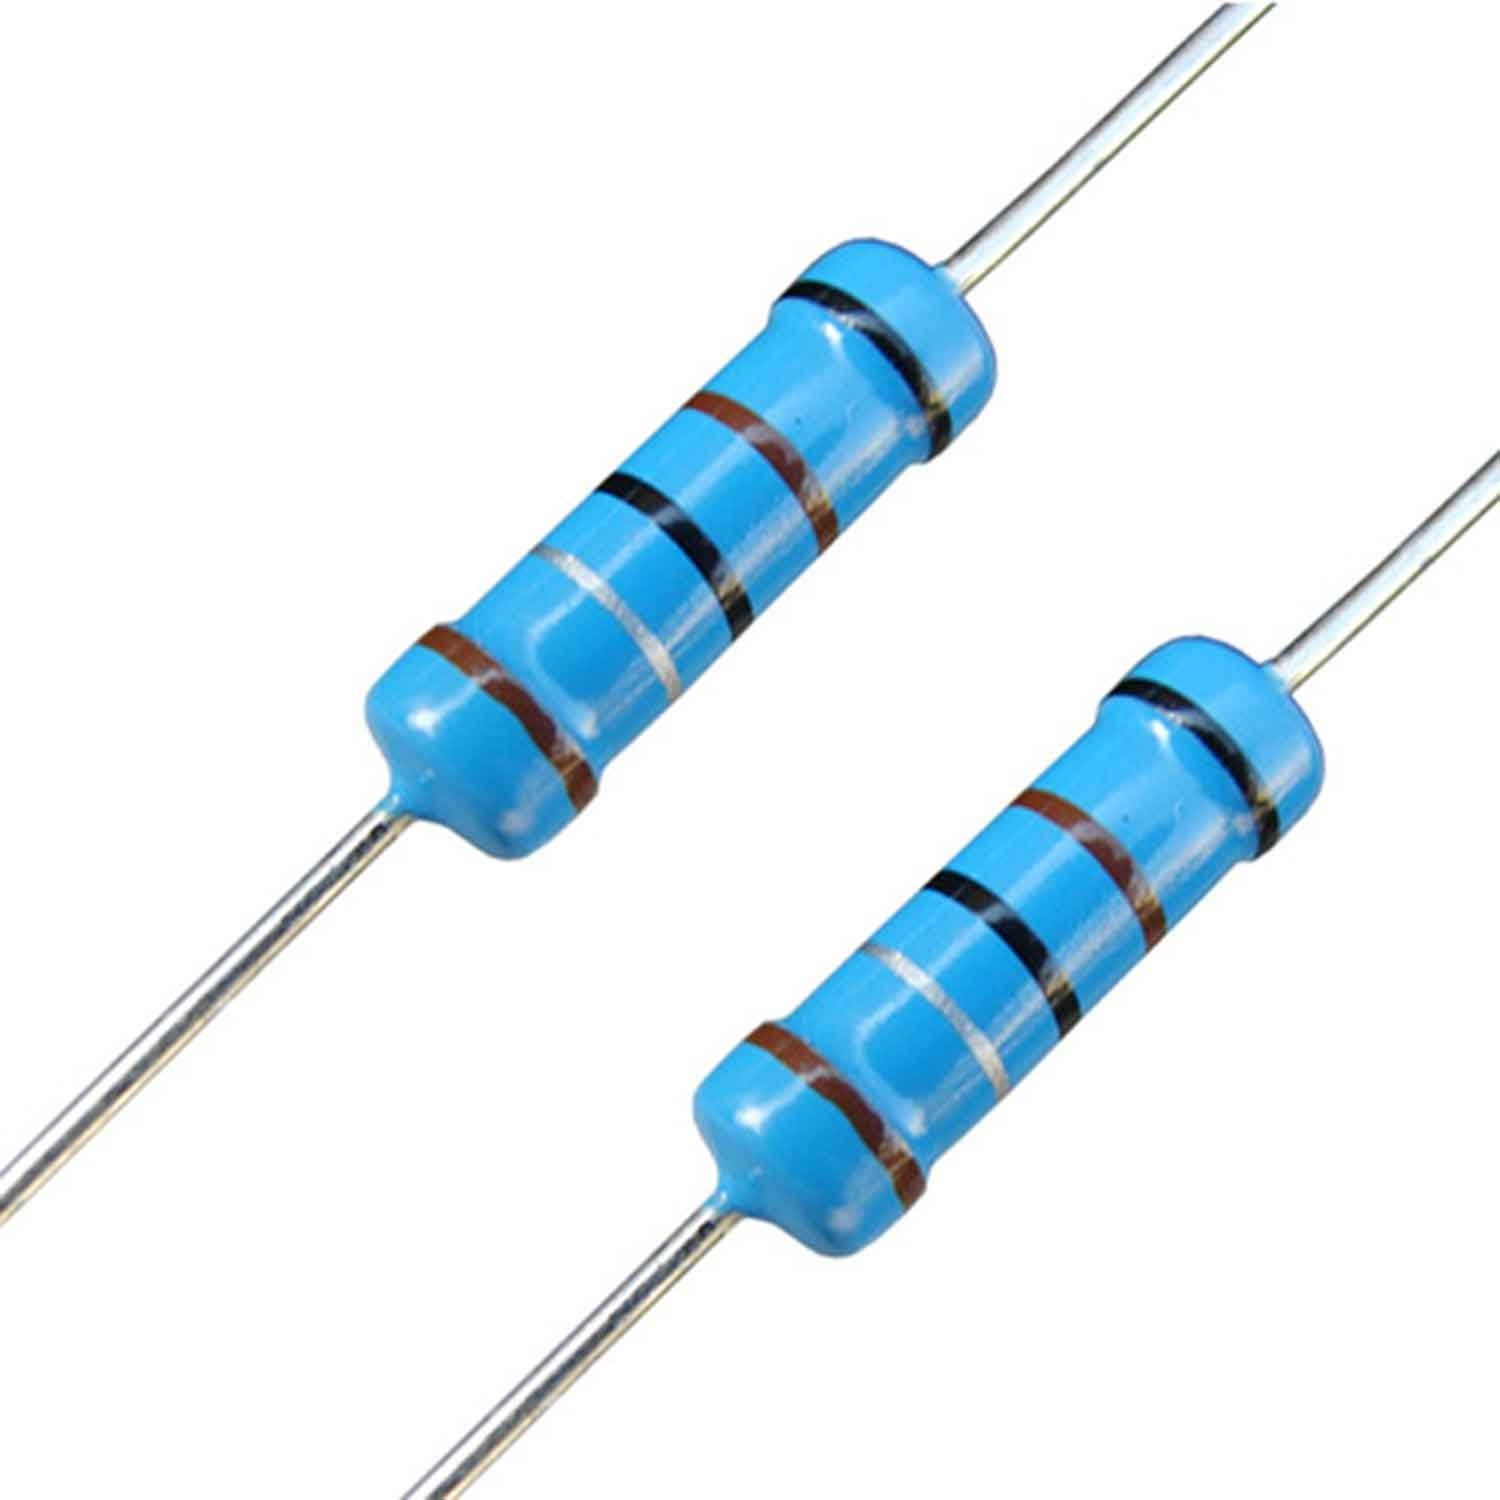resistor: (287, 155, 1084, 944), (606, 543, 1404, 1330)
